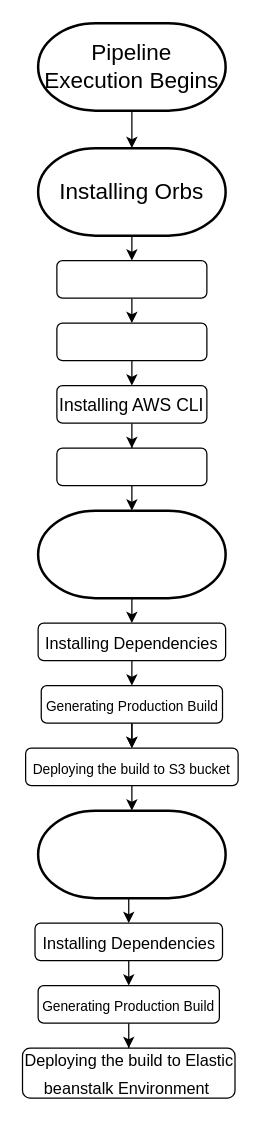
The diagram is 260 pixels wide and 1121 high, and some of its shapes have lost their labels. The centre of each missing label's shape, as x and y in pixels:
"Initializing Backend API" goes at (x=131, y=854).
"Initializing Frontend Web App" goes at (x=131, y=554).
"Installing EB CLI" goes at (x=131, y=466).
"Installing NodeJs" goes at (x=131, y=278).
"Installing NPM" goes at (x=131, y=341).
